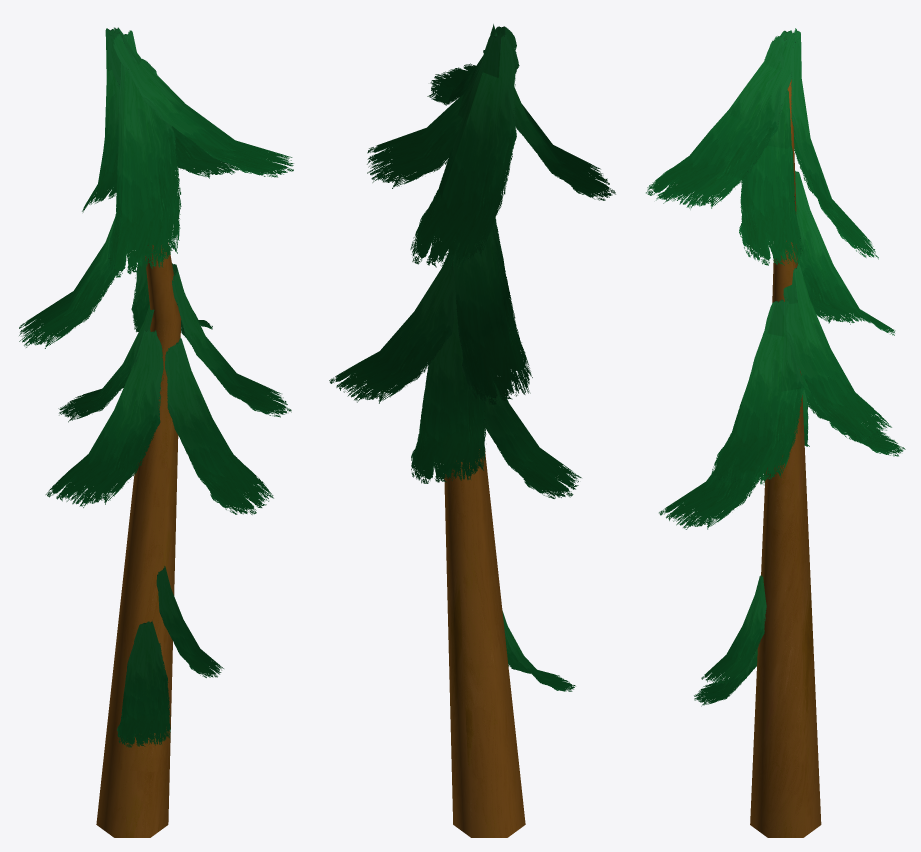
File: SM_Tree2_02.fbx
3 renders of one model, left to right at view 1: azimuth 30°, elevation 25°; view 2: azimuth 150°, elevation 25°; view 3: azimuth 270°, elevation 25°, orthographic.
Visible parts, largest first — view 1: SM_TreeLeaves2_02, SM_Tree2_02; view 2: SM_TreeLeaves2_02, SM_Tree2_02; view 3: SM_TreeLeaves2_02, SM_Tree2_02.
Boxes of the visible parts, x1,y1,x2,y2 form: SM_TreeLeaves2_02: (19,27,293,747); SM_Tree2_02: (96,242,181,837); SM_TreeLeaves2_02: (329,24,615,691); SM_Tree2_02: (444,448,525,837); SM_TreeLeaves2_02: (646,28,905,706); SM_Tree2_02: (750,79,821,837).
Size of the model in its own units: 216 by 754 by 223.
